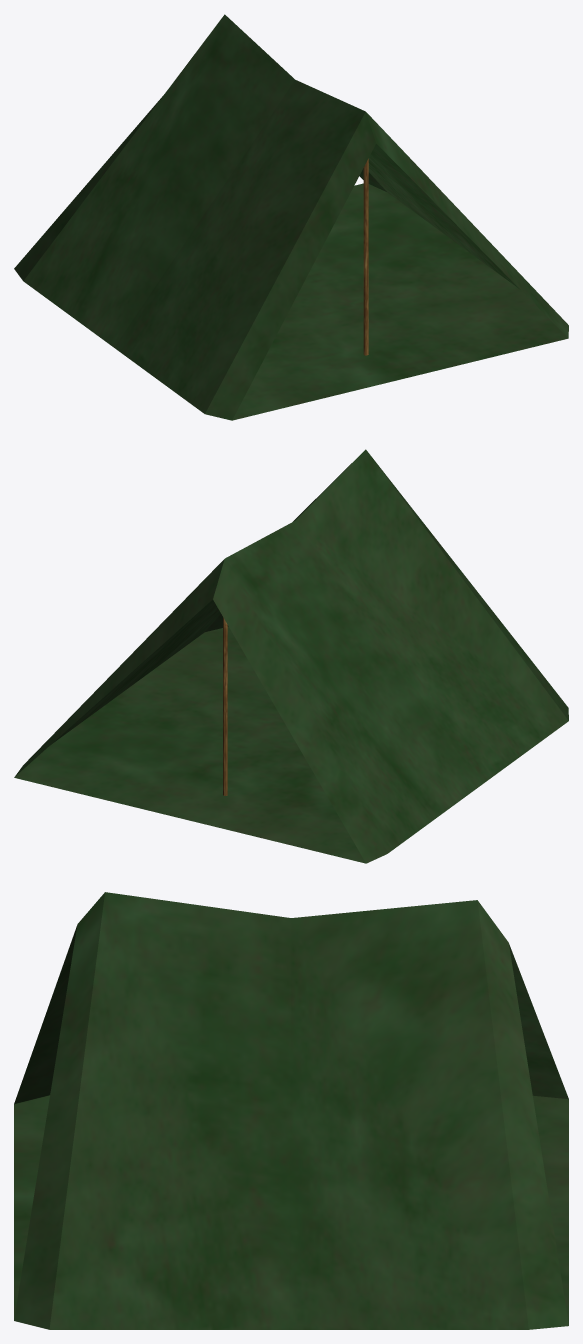
Rendered from MKU_tent_army_fin.fbx.
The picture shows the model from 3 angles, top to bottom: view 1: azimuth 30°, elevation 25°; view 2: azimuth 150°, elevation 25°; view 3: azimuth 270°, elevation 25°; orthographic projection. The views are drawn at different scales.
Visible parts, largest first — view 1: Cube, Cylinder; view 2: Cube, Cylinder; view 3: Cube.
Part boxes in pixels (x1=…): Cube: x1=14, y1=14, x2=568, y2=420; Cylinder: x1=363, y1=158, x2=368, y2=355; Cube: x1=14, y1=449, x2=568, y2=863; Cylinder: x1=223, y1=617, x2=227, y2=795; Cube: x1=14, y1=892, x2=568, y2=1329.
Size of the model in its own units: 898 by 573 by 898.
